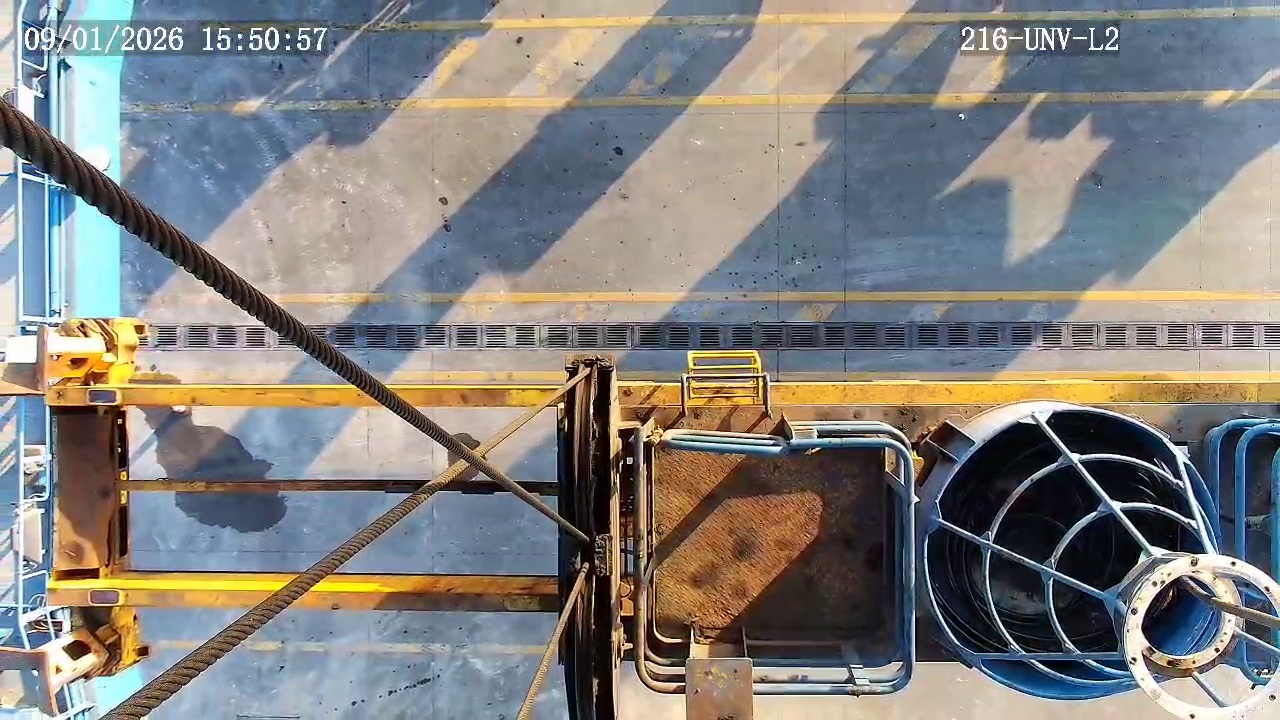left: (925, 407, 1223, 701)
